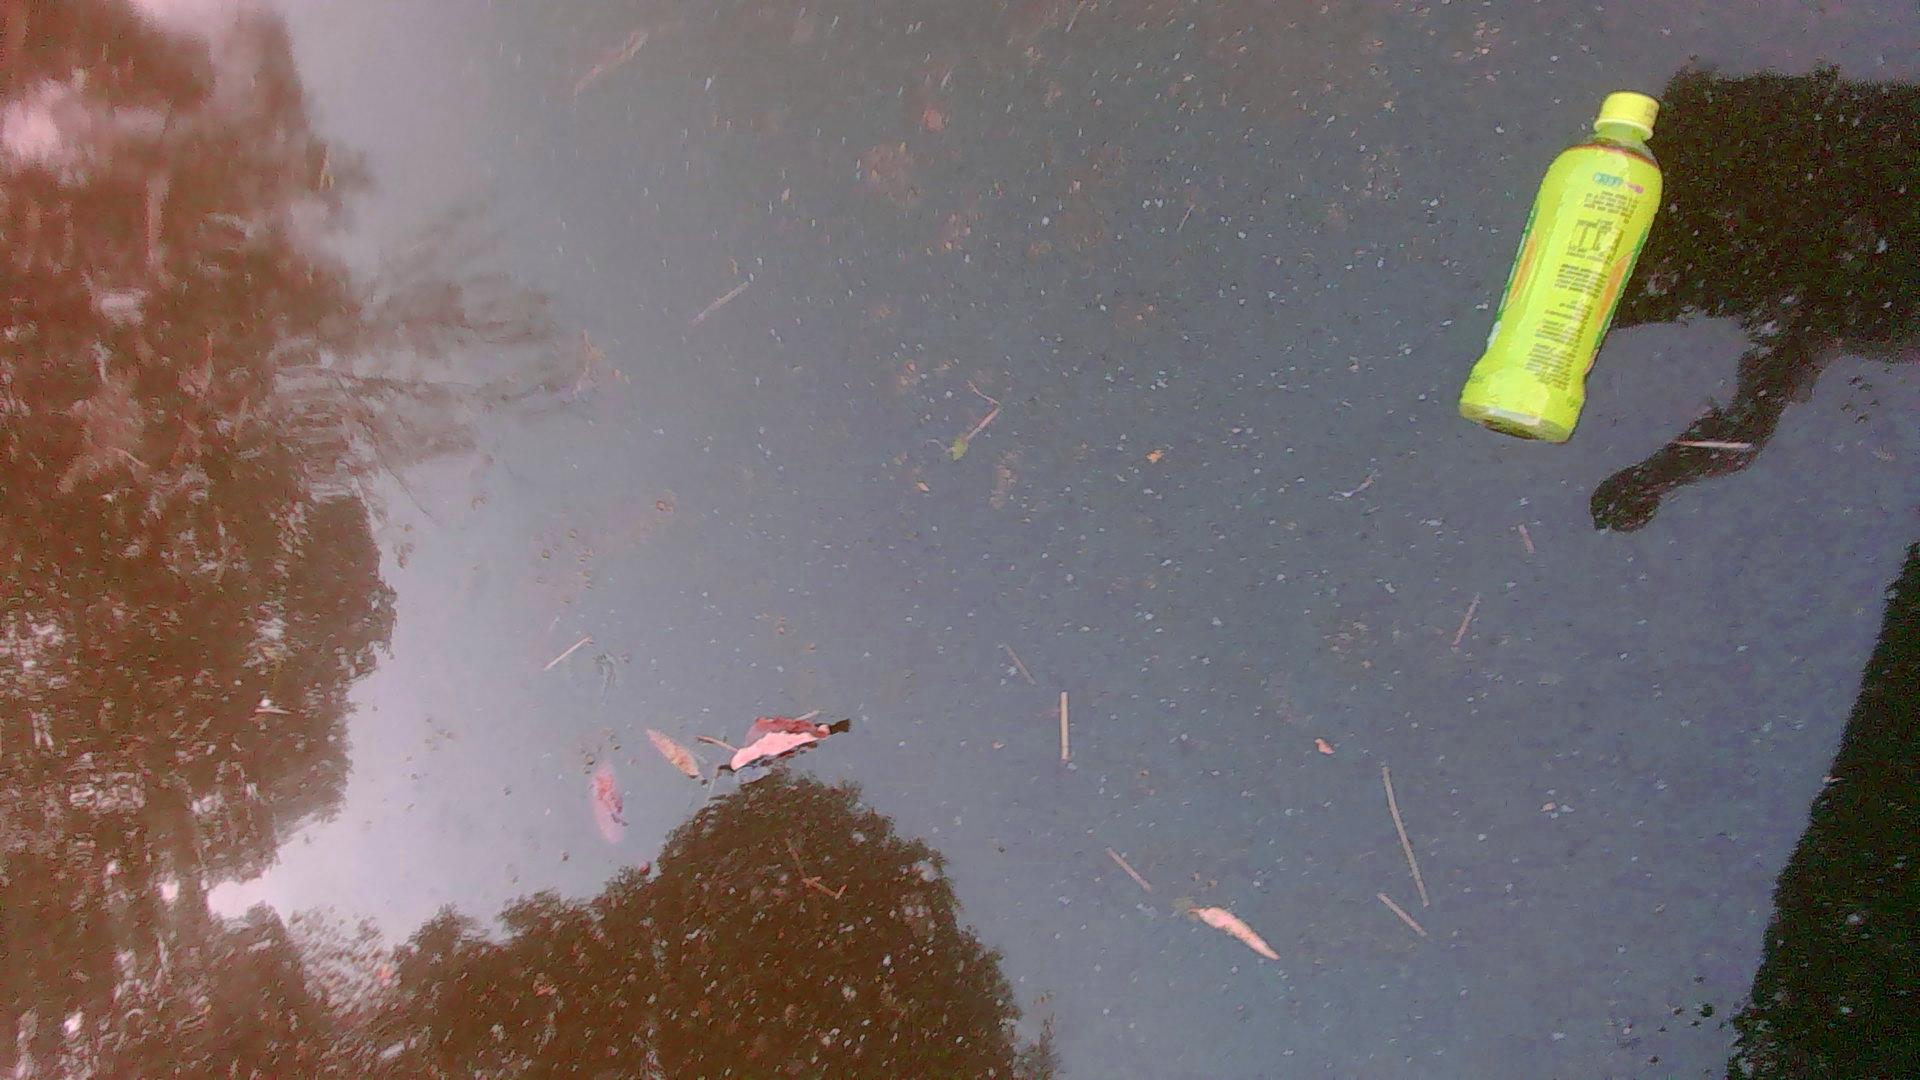Plastic: (1448, 79, 1673, 448)
